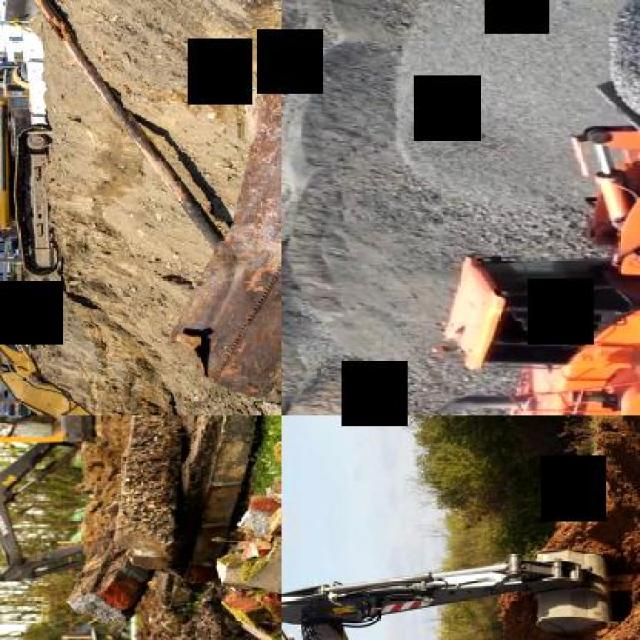buldozerpayloadergrader: (431, 0, 638, 414)
excavator: (0, 94, 157, 414), (282, 548, 616, 638), (0, 415, 143, 583)
